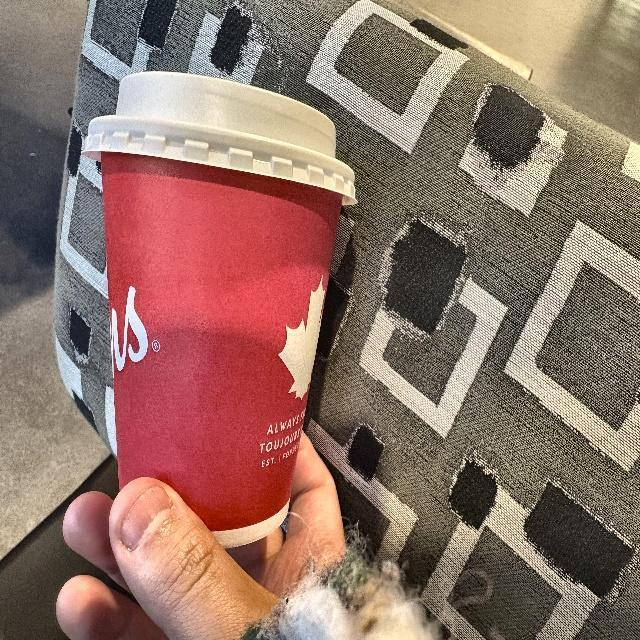timmies: (80, 66, 360, 558)
